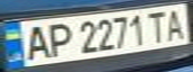1: (127, 11, 148, 46)
2: (75, 17, 100, 54), (93, 15, 115, 52)
7: (112, 14, 133, 50)
A: (18, 22, 51, 61), (160, 6, 190, 40)
P: (42, 20, 75, 58)
T: (145, 8, 172, 44)
